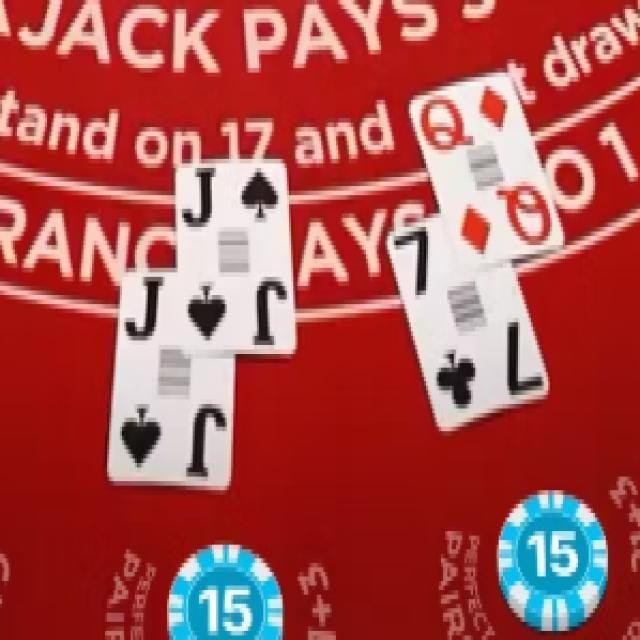Card-7: (387, 210, 550, 430)
Card-J: (108, 270, 233, 484), (177, 160, 295, 349)
Card-Q: (408, 68, 564, 269)
